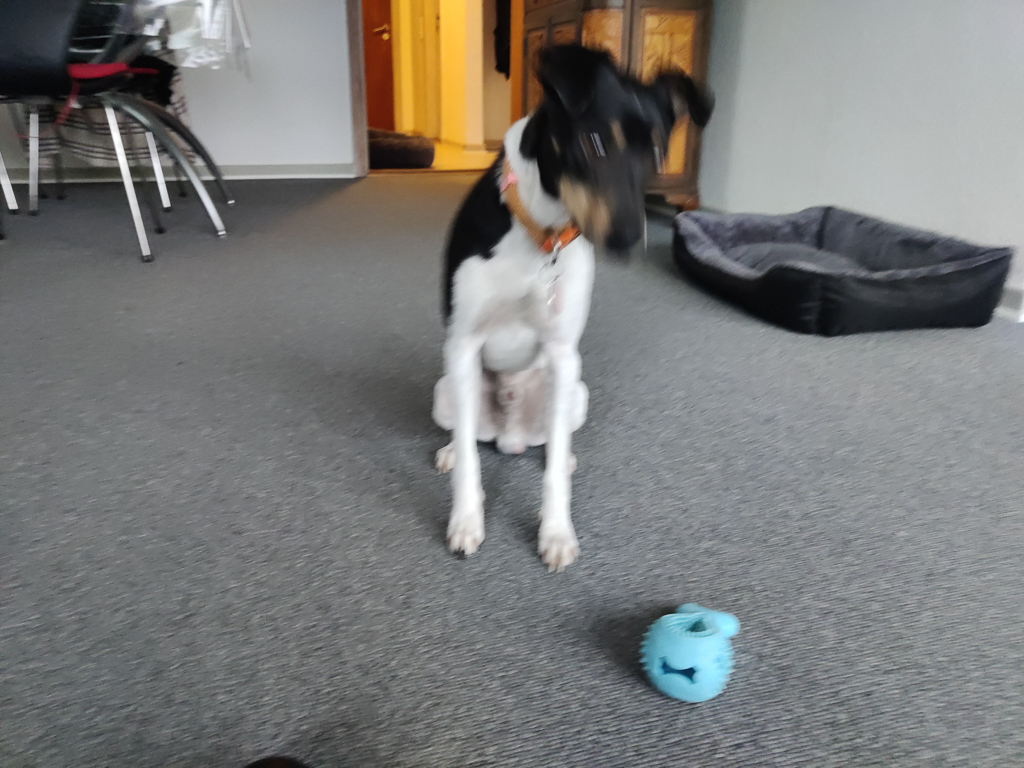Dog: (398, 21, 725, 577)
